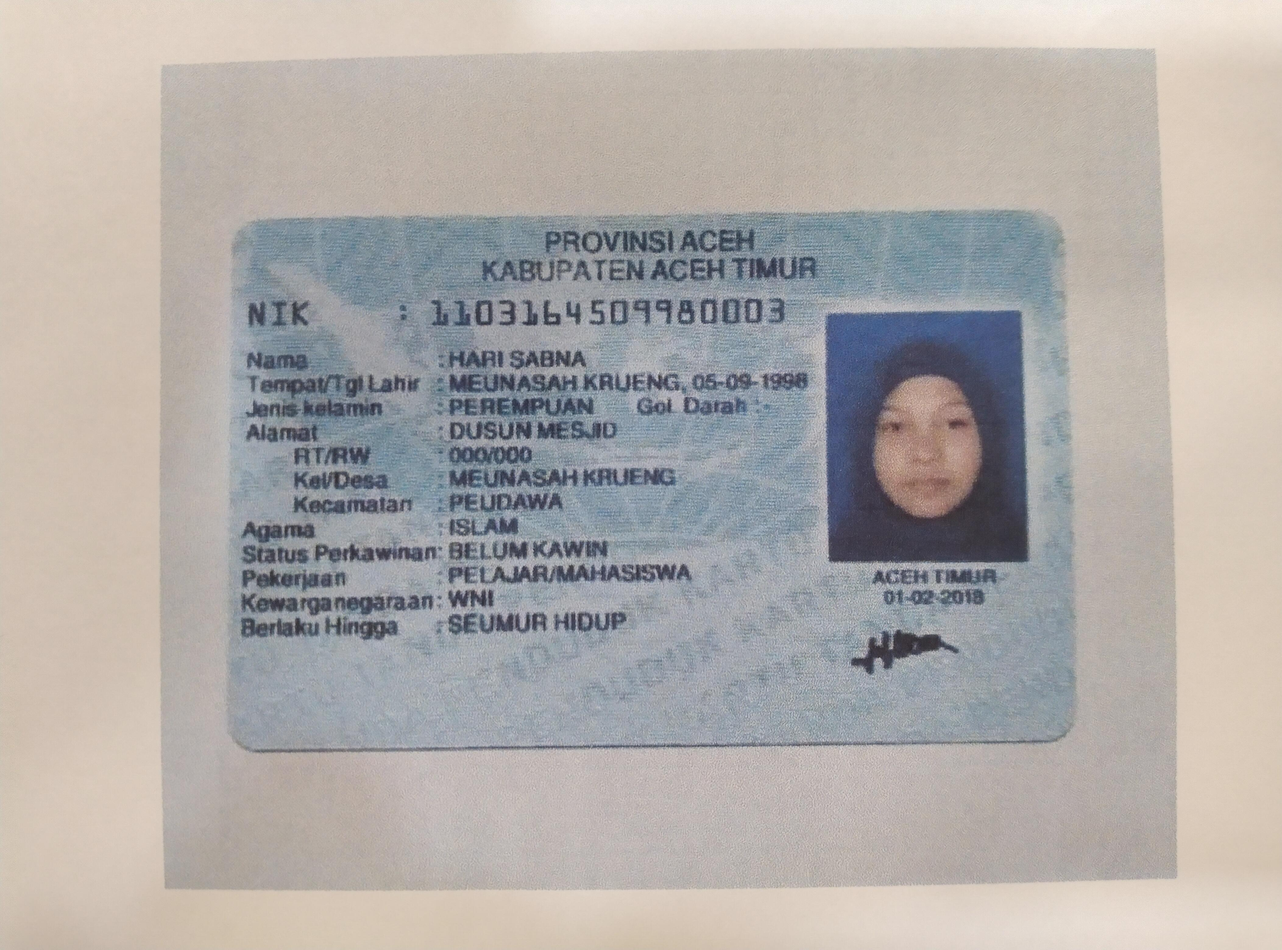ID-card: (242, 215, 1068, 743)
